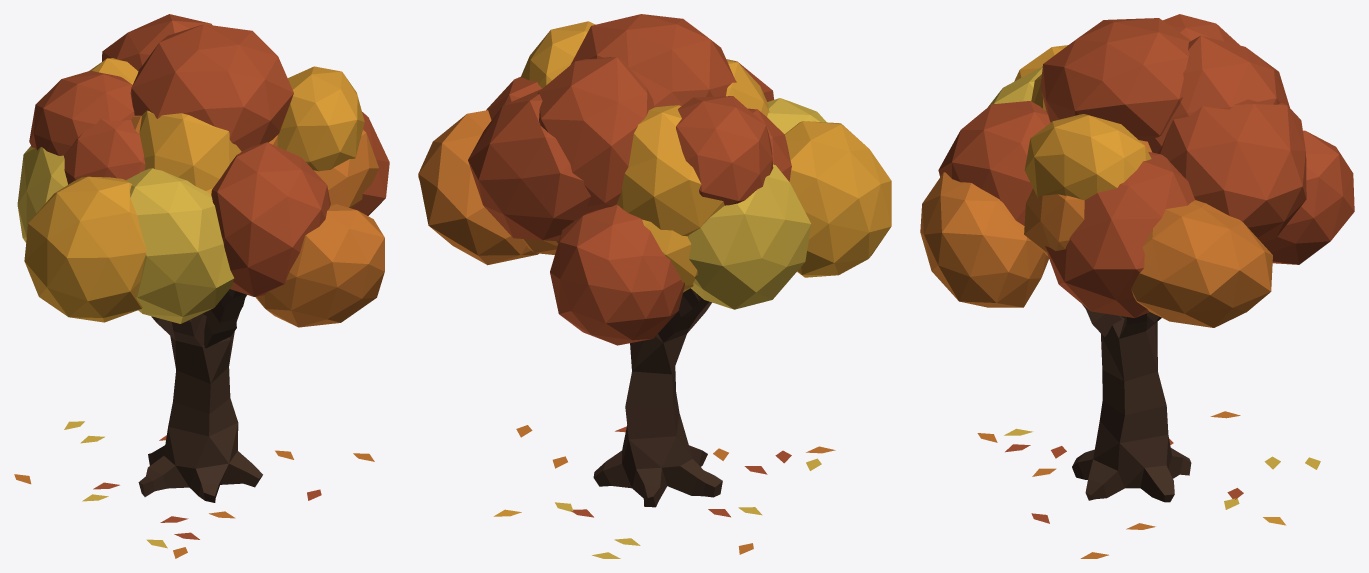
File: SM_Tree_Oak_Autumn.glb
3 renders of one model, left to right at view 1: azimuth 30°, elevation 25°; view 2: azimuth 150°, elevation 25°; view 3: azimuth 270°, elevation 25°, orthographic. The views are drawn at different scales.
Visible parts, largest first — view 1: SM_Tree_Oak_Autumn; view 2: SM_Tree_Oak_Autumn; view 3: SM_Tree_Oak_Autumn.
Boxes of the visible parts, x1,y1,x2,y2 form: SM_Tree_Oak_Autumn: [14, 14, 389, 558]; SM_Tree_Oak_Autumn: [418, 14, 891, 558]; SM_Tree_Oak_Autumn: [920, 14, 1354, 558].
Size of the model in its own units: 4.11 by 4.53 by 3.88.
